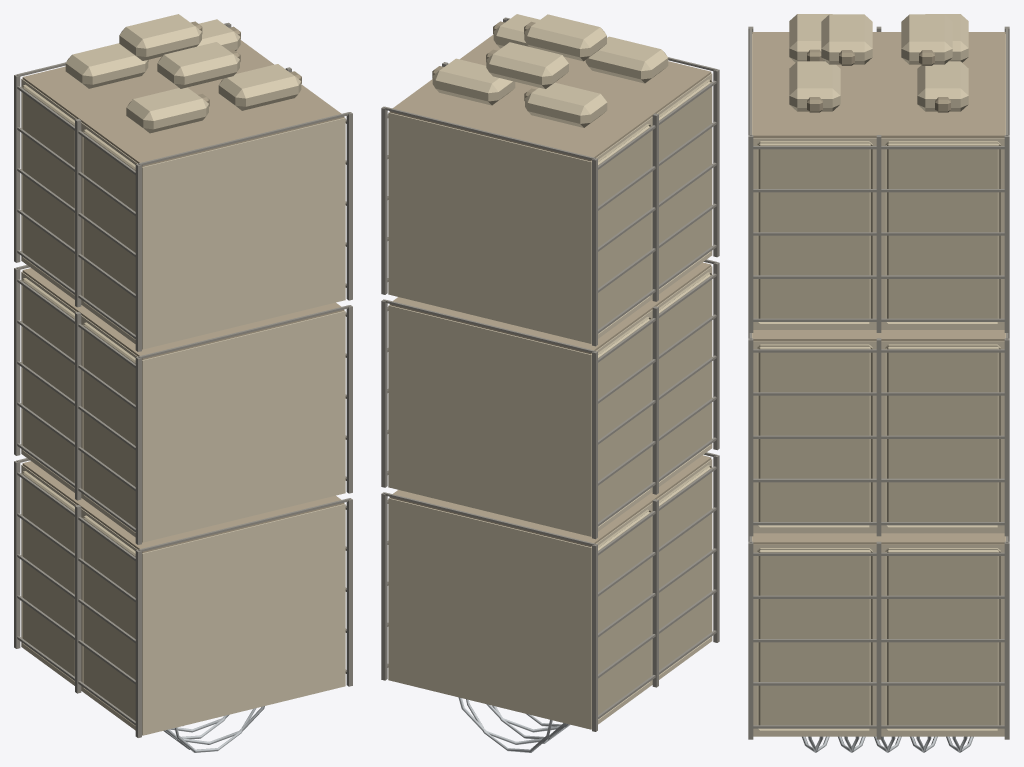
File: hollis_wall.glb
The picture shows the model from 3 angles, left to right: view 1: azimuth 30°, elevation 25°; view 2: azimuth 150°, elevation 25°; view 3: azimuth 270°, elevation 25°; orthographic projection. The views are drawn at different scales.
Parts seen in each view (by area): view 1: mb_bastion_mesh, mb_wire_mesh; view 2: mb_bastion_mesh, mb_wire_mesh; view 3: mb_bastion_mesh, mb_wire_mesh.
Part boxes in pixels (x1=…): mb_bastion_mesh: x1=14, y1=14, x2=352, y2=737; mb_wire_mesh: x1=163, y1=706, x2=264, y2=752; mb_bastion_mesh: x1=381, y1=14, x2=719, y2=731; mb_wire_mesh: x1=458, y1=697, x2=570, y2=752; mb_bastion_mesh: x1=748, y1=14, x2=1009, y2=739; mb_wire_mesh: x1=802, y1=736, x2=973, y2=752.
Bounding box in the file's own units: 1.63 × 4.95 × 1.63.
